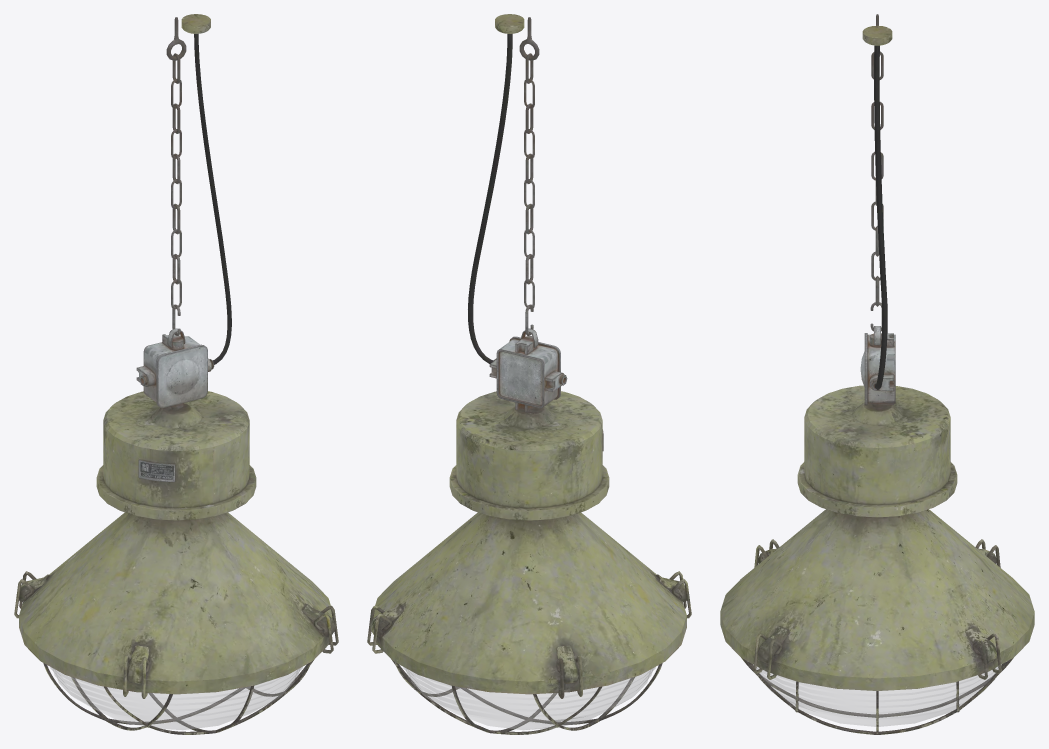
Rendered from hanging-industrial-lamp-1k.glb.
3 views of the same model, side by side, from view 1: azimuth 30°, elevation 25°; view 2: azimuth 150°, elevation 25°; view 3: azimuth 270°, elevation 25° (orthographic).
Visible parts, largest first — view 1: hanging_industrial_lamp; view 2: hanging_industrial_lamp; view 3: hanging_industrial_lamp.
Boxes of the visible parts, <box> form: hanging_industrial_lamp: <box>14,14,338,734</box>; hanging_industrial_lamp: <box>367,14,691,734</box>; hanging_industrial_lamp: <box>720,14,1034,734</box>.
Size of the model in its own units: 0.5497 by 1.36 by 0.5497.
2 materials, 1 textured.
